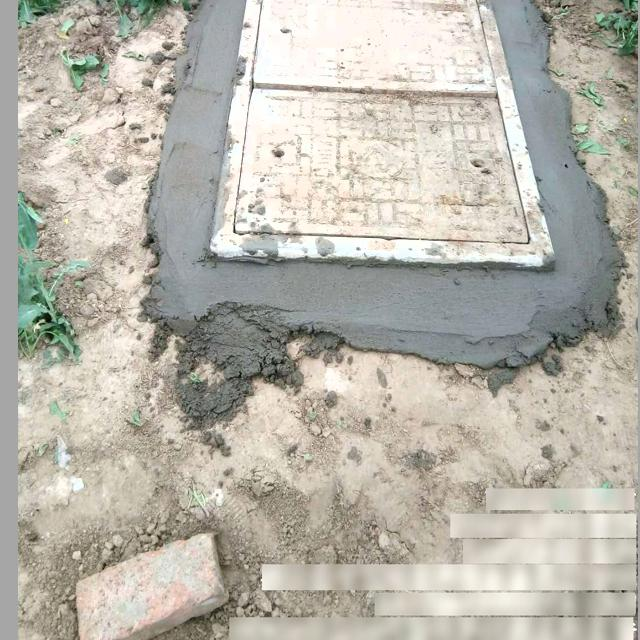good: (214, 0, 558, 279)
